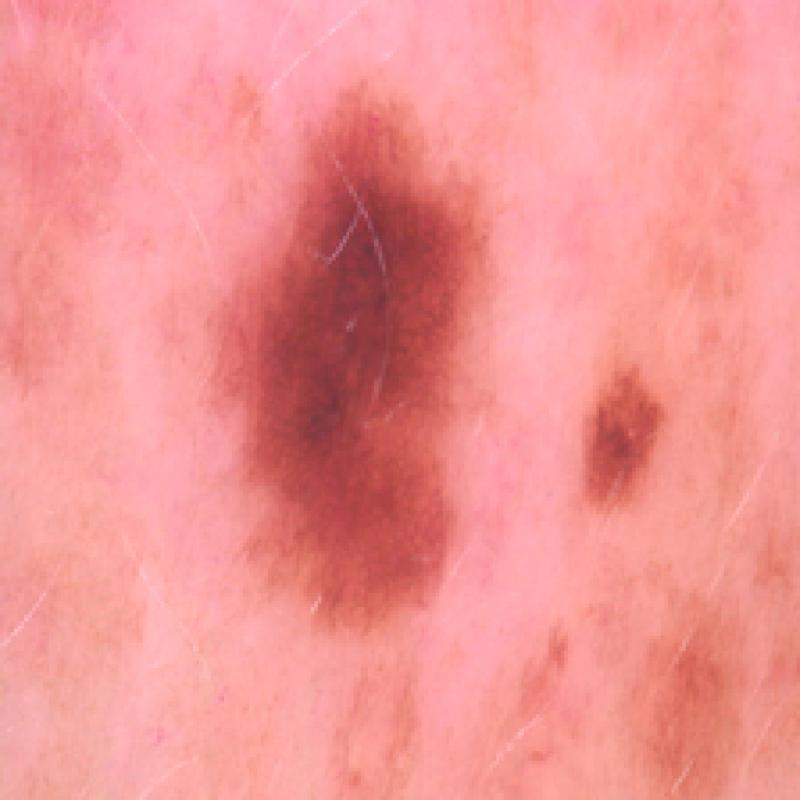benign: (193, 71, 499, 642), (562, 341, 691, 526)
